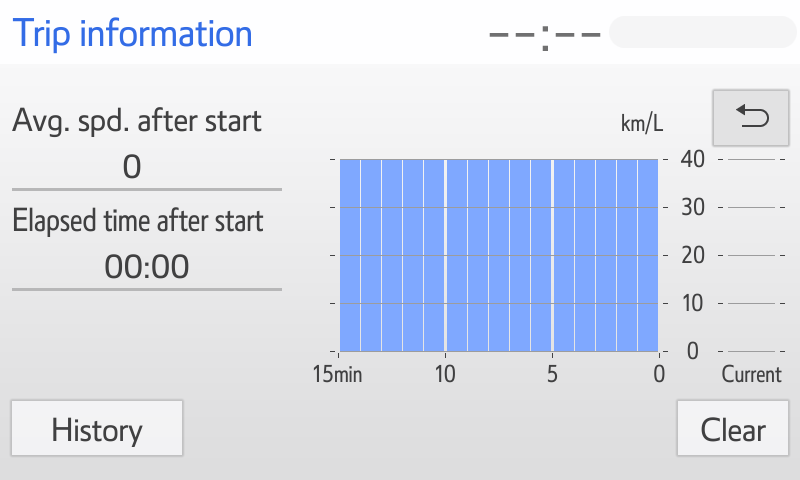touchPart: (9, 392, 190, 463), (672, 397, 792, 459), (705, 85, 793, 146)
untouchPart: (302, 96, 707, 390), (7, 106, 287, 304), (477, 11, 797, 51), (12, 4, 253, 52)
